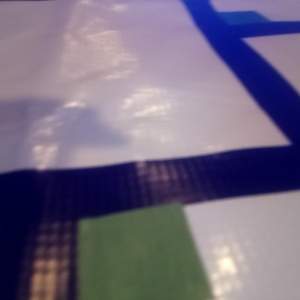bottom_right: (1, 172, 267, 300)
top_right: (196, 1, 292, 36)
